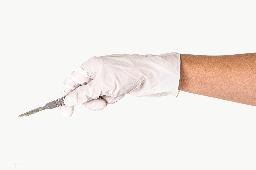scalpel: (18, 94, 70, 118)
